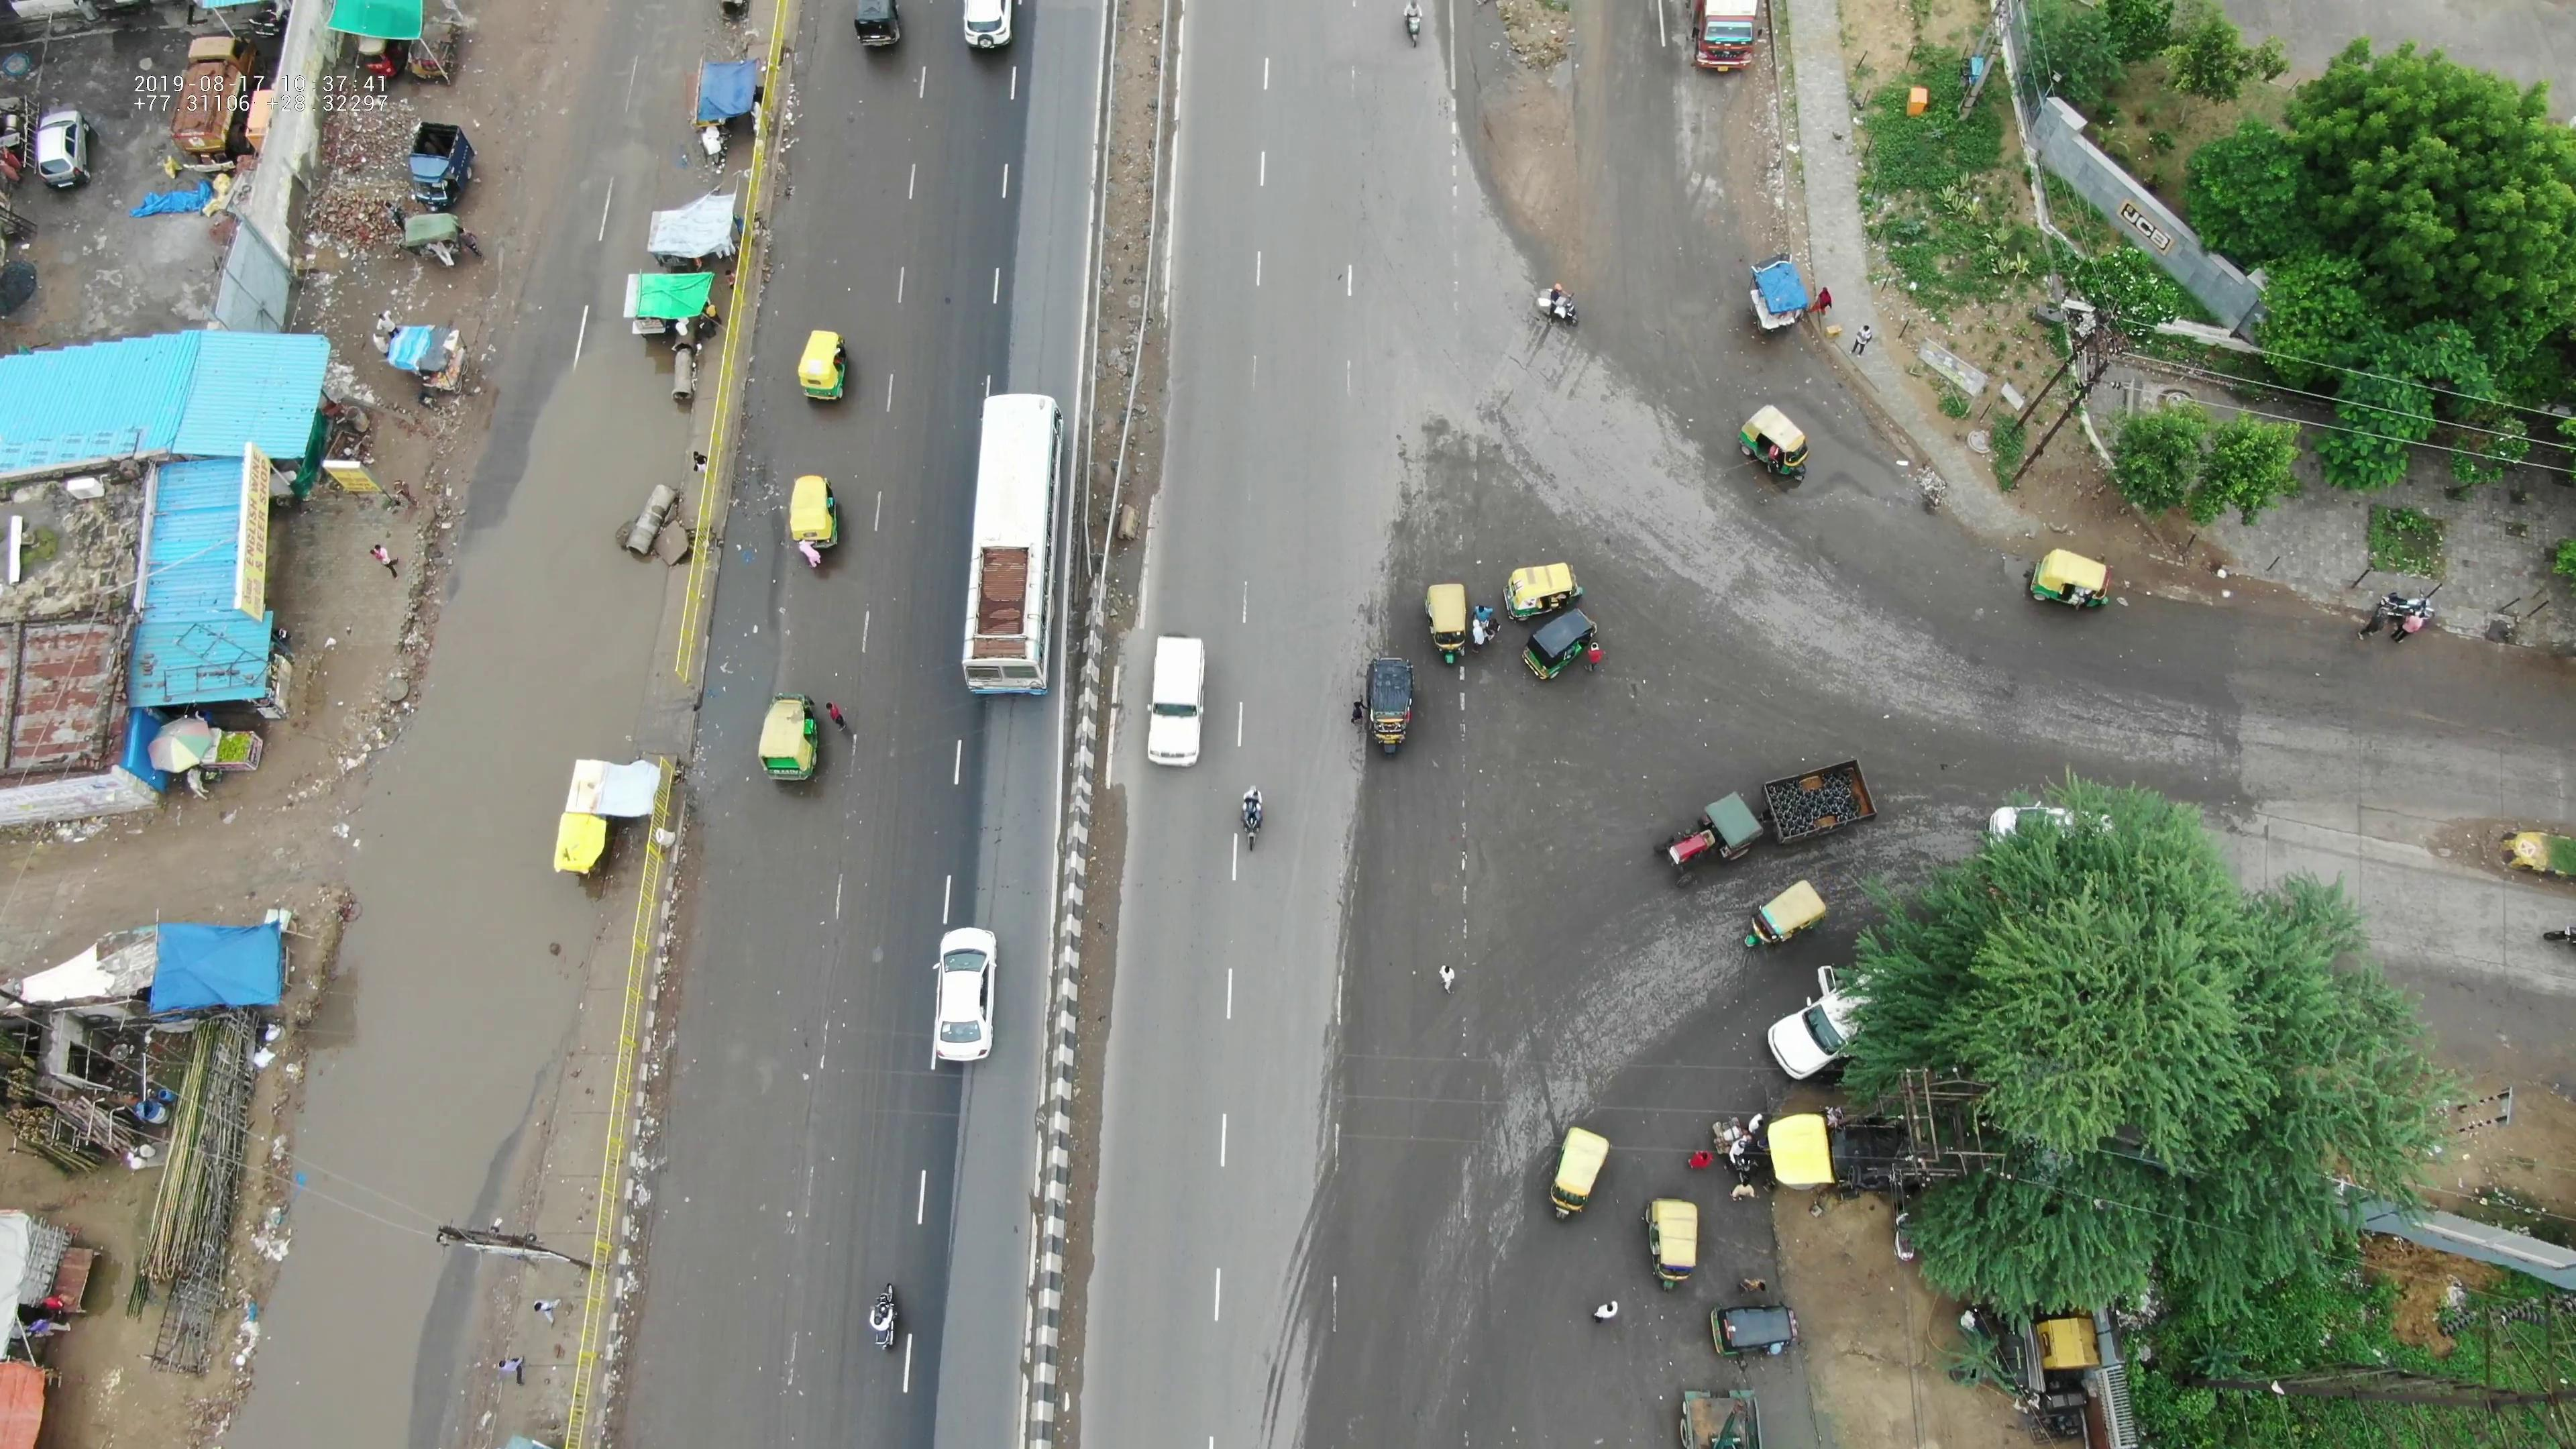Potholes: (589, 4, 706, 191)
Waterlogging: (326, 648, 646, 1023), (216, 1051, 497, 1438), (462, 272, 725, 640)
